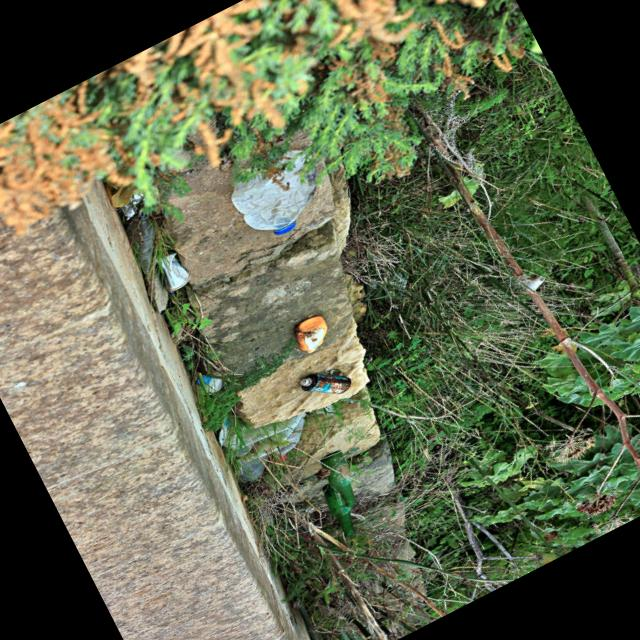Bottle: (230, 153, 317, 237), (322, 484, 357, 538), (129, 210, 157, 272), (272, 414, 307, 461), (293, 313, 329, 355), (238, 455, 269, 484), (196, 374, 223, 397)
Bottle cap: (319, 451, 359, 508)
Can: (159, 249, 197, 292), (298, 371, 353, 395)
Other plastic: (223, 418, 295, 451), (230, 431, 286, 464), (120, 193, 145, 217)
Plastic bag - wrapper: (216, 420, 237, 449)
